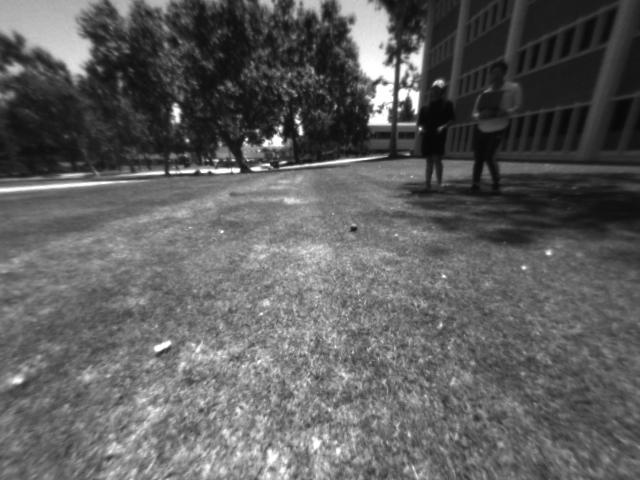dogtoy: (344, 215, 366, 239)
